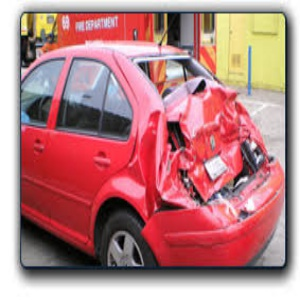bonnet: (169, 99, 250, 182)
bumper: (137, 203, 251, 265)
